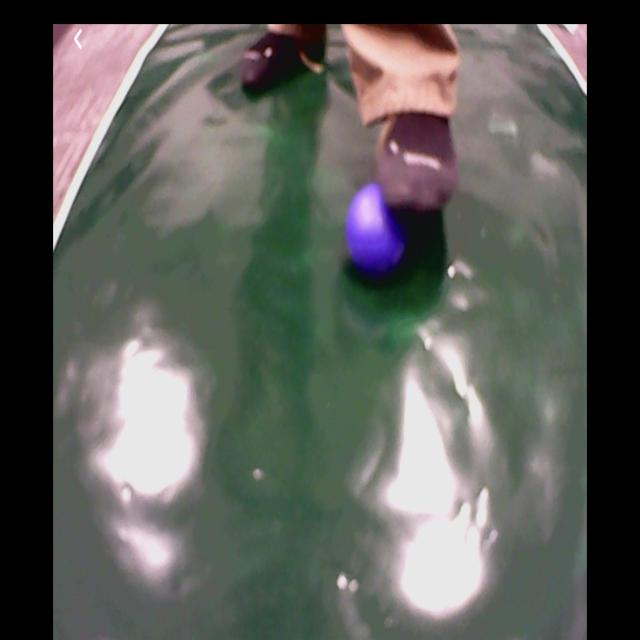ball: (350, 186, 406, 277)
